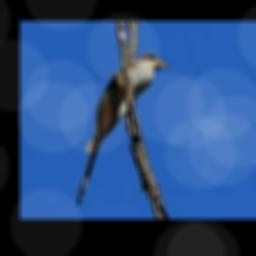Cuckoo: (77, 51, 168, 205)
